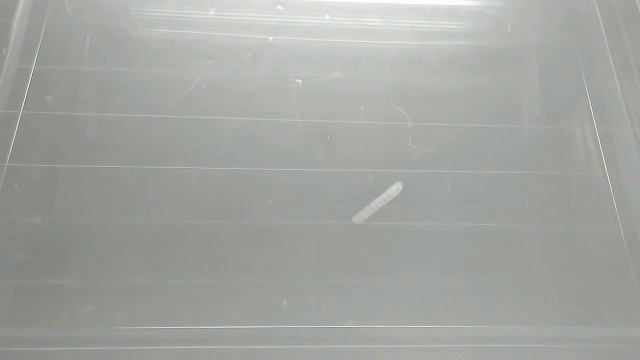alpha: (347, 179, 410, 229)
